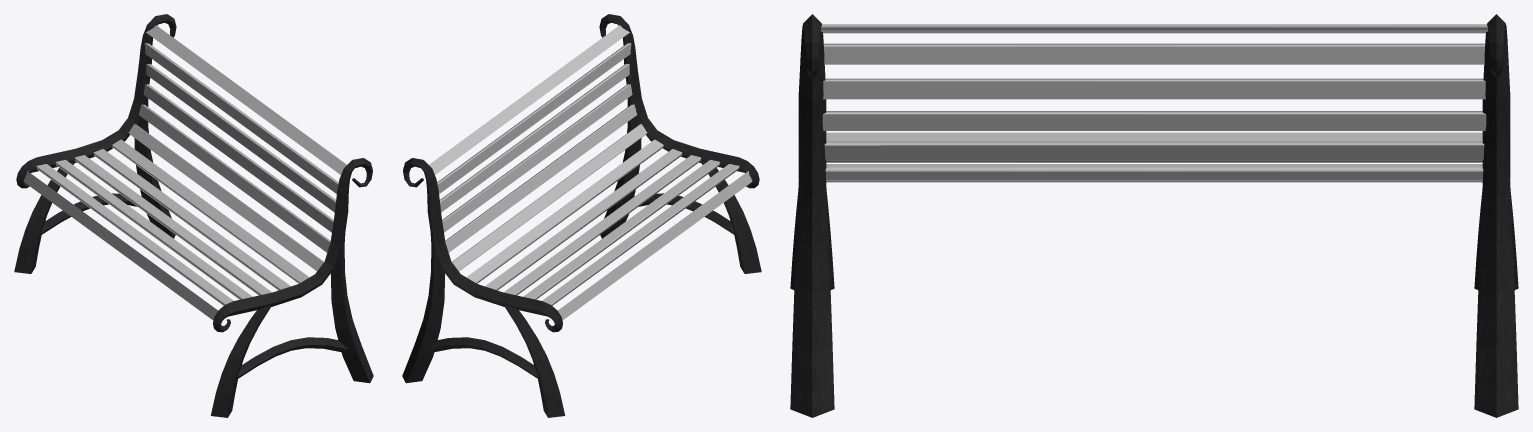
The model's file is street_bench_001.fbx.
3 views of the same model, side by side, from view 1: azimuth 30°, elevation 25°; view 2: azimuth 150°, elevation 25°; view 3: azimuth 270°, elevation 25° (orthographic). The views are drawn at different scales.
Parts seen in each view (by area): view 1: parkBench; view 2: parkBench; view 3: parkBench.
Boxes of the visible parts, bbox=[...] form: parkBench: bbox=[14, 14, 373, 417]; parkBench: bbox=[402, 14, 761, 417]; parkBench: bbox=[790, 14, 1518, 417].
Bounding box in the file's own units: 71.26 × 92.49 × 158.
